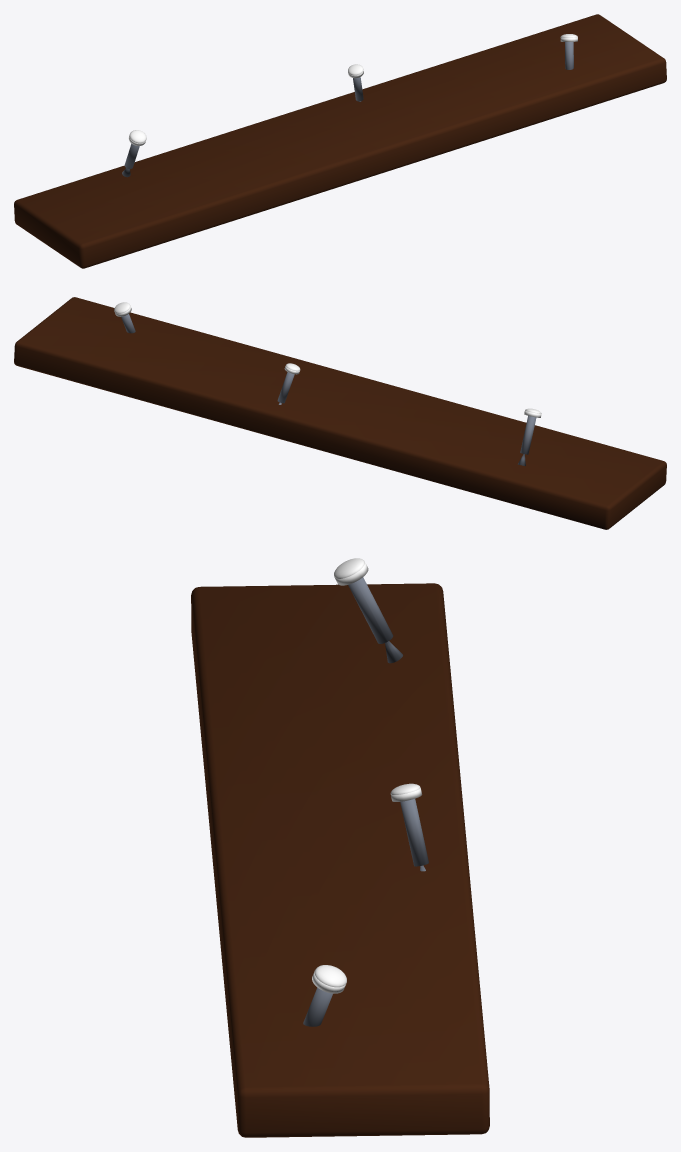
File: loose-board-with-protruding-nails.obj
The picture shows the model from 3 angles, top to bottom: view 1: azimuth 30°, elevation 25°; view 2: azimuth 150°, elevation 25°; view 3: azimuth 270°, elevation 25°; orthographic projection. The views are drawn at different scales.
Parts seen in each view (by area): view 1: loose-board-with-protruding-nails; view 2: loose-board-with-protruding-nails; view 3: loose-board-with-protruding-nails.
Part boxes in pixels (x1=…): loose-board-with-protruding-nails: x1=14, y1=14, x2=666, y2=268; loose-board-with-protruding-nails: x1=14, y1=297, x2=666, y2=529; loose-board-with-protruding-nails: x1=191, y1=558, x2=489, y2=1137.
Bounding box in the file's own units: 1.51 × 0.2026 × 0.3316.
